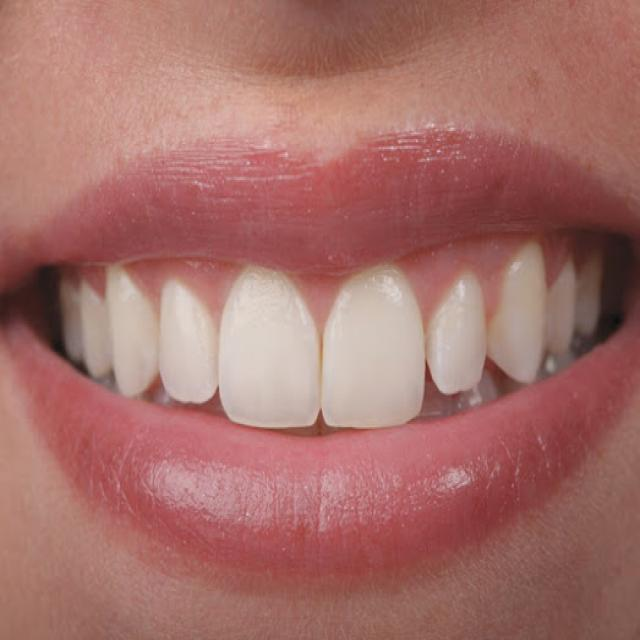tooth: (222, 278, 320, 426), (327, 290, 423, 422), (483, 240, 546, 376), (423, 290, 478, 393), (147, 290, 205, 368), (104, 298, 147, 370), (546, 241, 568, 370), (51, 270, 81, 362), (582, 259, 604, 334), (81, 298, 104, 362)
